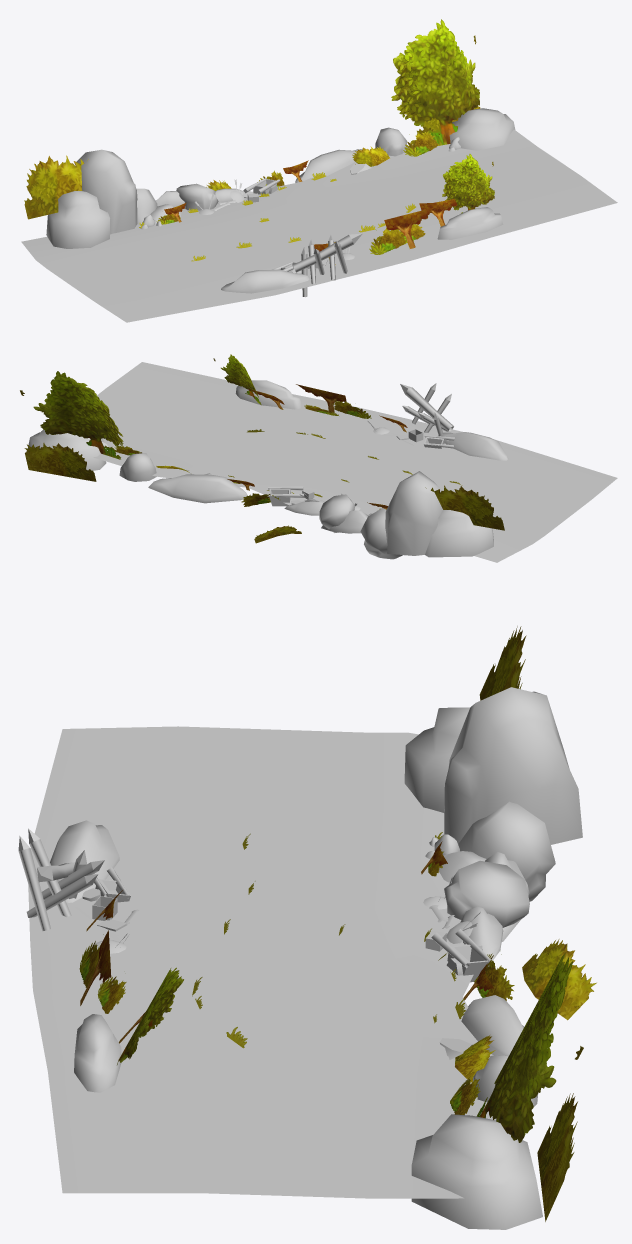
Rendered from ceshi.FBX.
3 views of the same model, one above another, from view 1: azimuth 30°, elevation 25°; view 2: azimuth 150°, elevation 25°; view 3: azimuth 270°, elevation 25° (orthographic). The views are drawn at different scales.
Visible parts, largest first — view 1: a, b; view 2: a, b; view 3: a, b.
Boxes of the visible parts, x1=… form: a: x1=21, y1=108, x2=617, y2=322; b: x1=24, y1=19, x2=494, y2=264; a: x1=28, y1=362, x2=617, y2=562; b: x1=20, y1=354, x2=504, y2=543; a: x1=18, y1=687, x2=582, y2=1229; b: x1=79, y1=626, x2=596, y2=1221.
Bounding box in the file's own units: 30.81 × 16.41 × 7.97.
